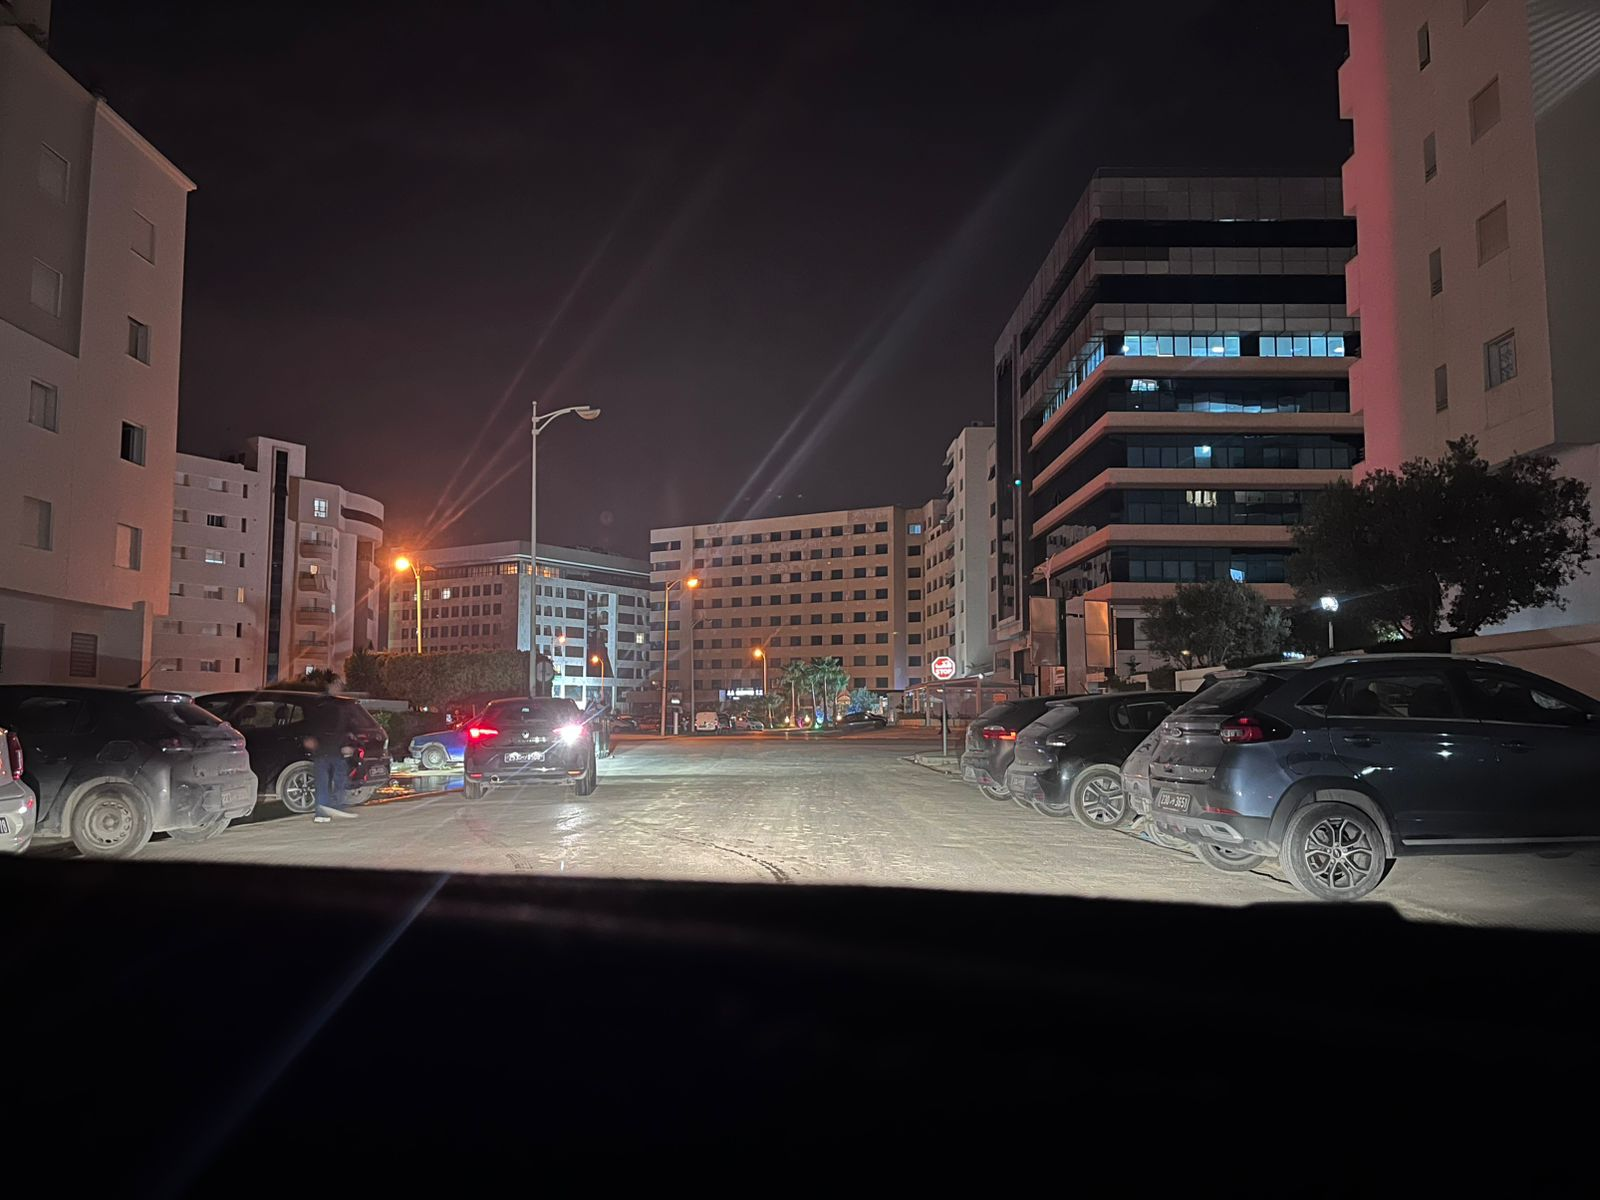Stop: (931, 655, 956, 679)
